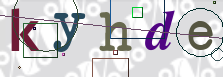d: (141, 8, 179, 54)
e: (184, 17, 218, 53)
h: (96, 8, 137, 56)
k: (7, 5, 43, 56)
y: (48, 9, 88, 56)
